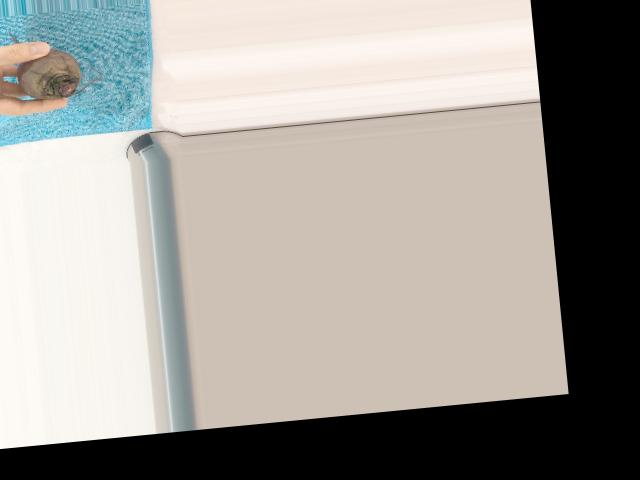beet: (9, 23, 103, 102)
